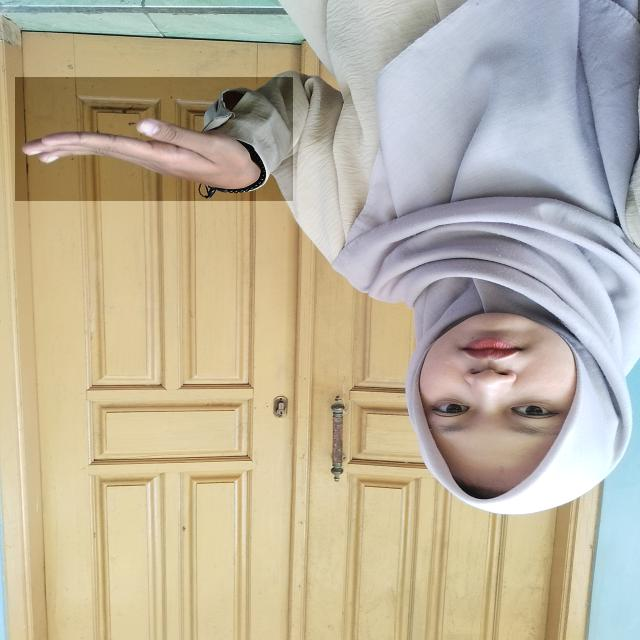adik: (15, 77, 293, 201)
